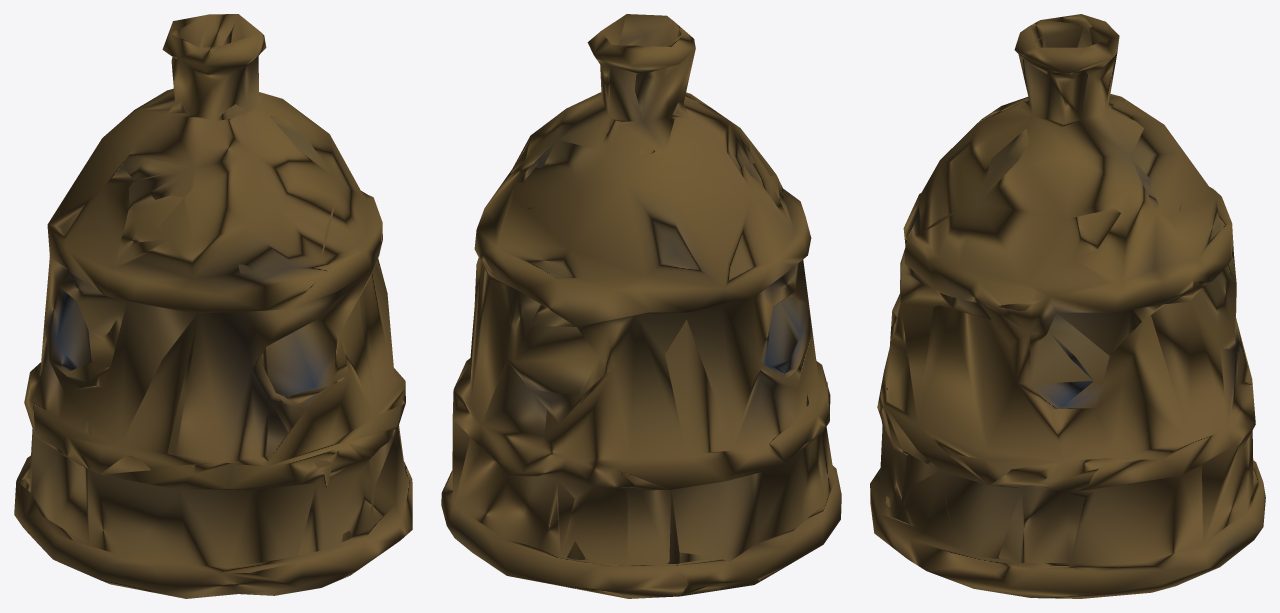
File: gen3d-diving-bell-lod1.glb
3 views of the same model, side by side, from view 1: azimuth 30°, elevation 25°; view 2: azimuth 150°, elevation 25°; view 3: azimuth 270°, elevation 25° (orthographic).
Visible parts, largest first — view 1: part_0; view 2: part_0; view 3: part_0.
Part boxes in pixels (box(x1,y1,x2,y2)): part_0: box(14, 14, 412, 598); part_0: box(441, 14, 841, 598); part_0: box(870, 14, 1265, 598).
Bounding box in the file's own units: 0.6839 × 0.9966 × 0.6753.
